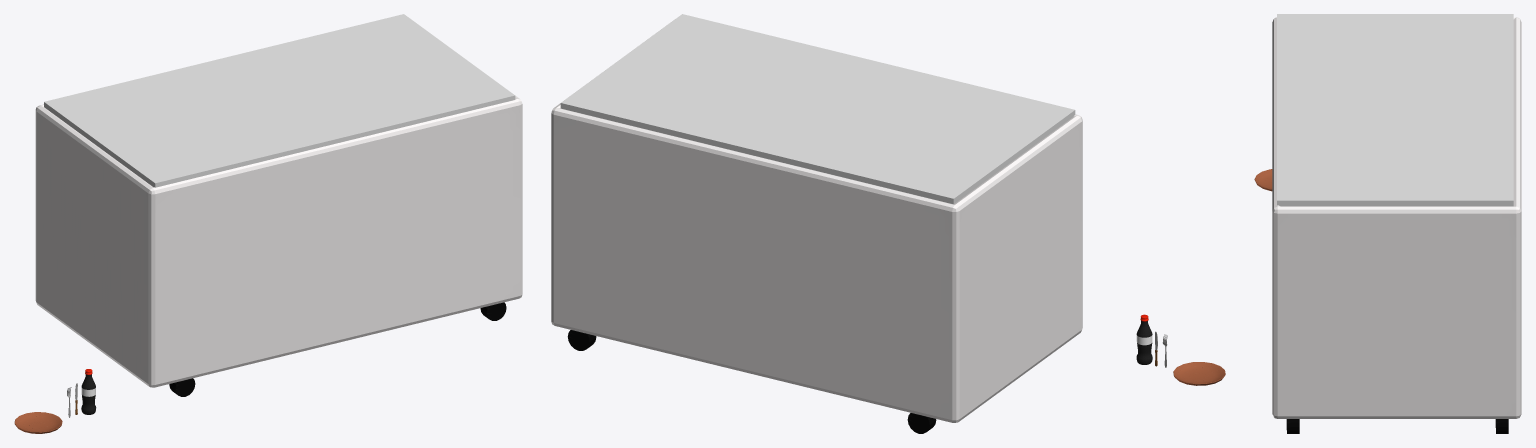
The model's file is TalheresEFreezer.fbx.
3 views of the same model, side by side, from view 1: azimuth 30°, elevation 25°; view 2: azimuth 150°, elevation 25°; view 3: azimuth 270°, elevation 25° (orthographic). The views are drawn at different scales.
Parts seen in each view (by area): view 1: Freezer, TampaFreezer, Prato, GarrafaRefrigerante; view 2: Freezer, TampaFreezer, Prato, GarrafaRefrigerante; view 3: Freezer, TampaFreezer, Prato.
Part boxes in pixels (left/top/right/bottom): Freezer: left=35, top=31, right=522, bottom=396; TampaFreezer: left=44, top=14, right=515, bottom=187; Prato: left=14, top=412, right=62, bottom=433; GarrafaRefrigerante: left=81, top=369, right=96, bottom=414; Freezer: left=551, top=25, right=1082, bottom=433; TampaFreezer: left=560, top=14, right=1075, bottom=204; Prato: left=1173, top=362, right=1225, bottom=385; GarrafaRefrigerante: left=1136, top=314, right=1152, bottom=364; Freezer: left=1272, top=17, right=1521, bottom=433; TampaFreezer: left=1277, top=14, right=1513, bottom=206; Prato: left=1254, top=169, right=1272, bottom=191.
Bounding box in the file's own units: 256 × 110 × 111.
